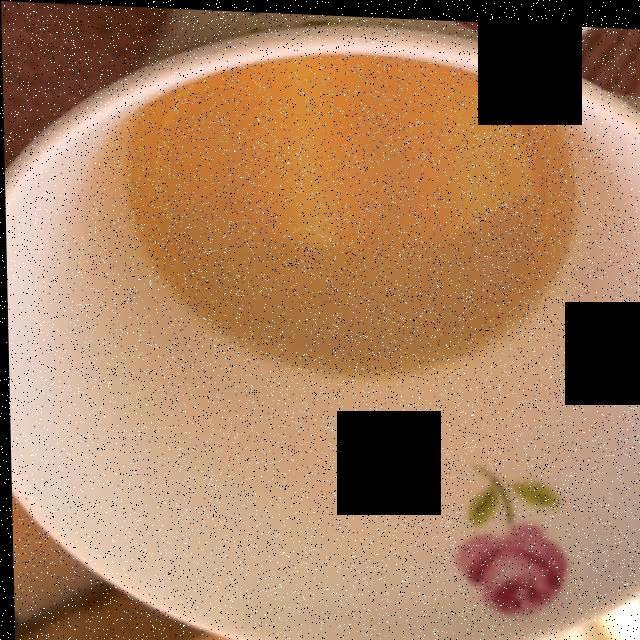tea: (130, 59, 567, 377)
